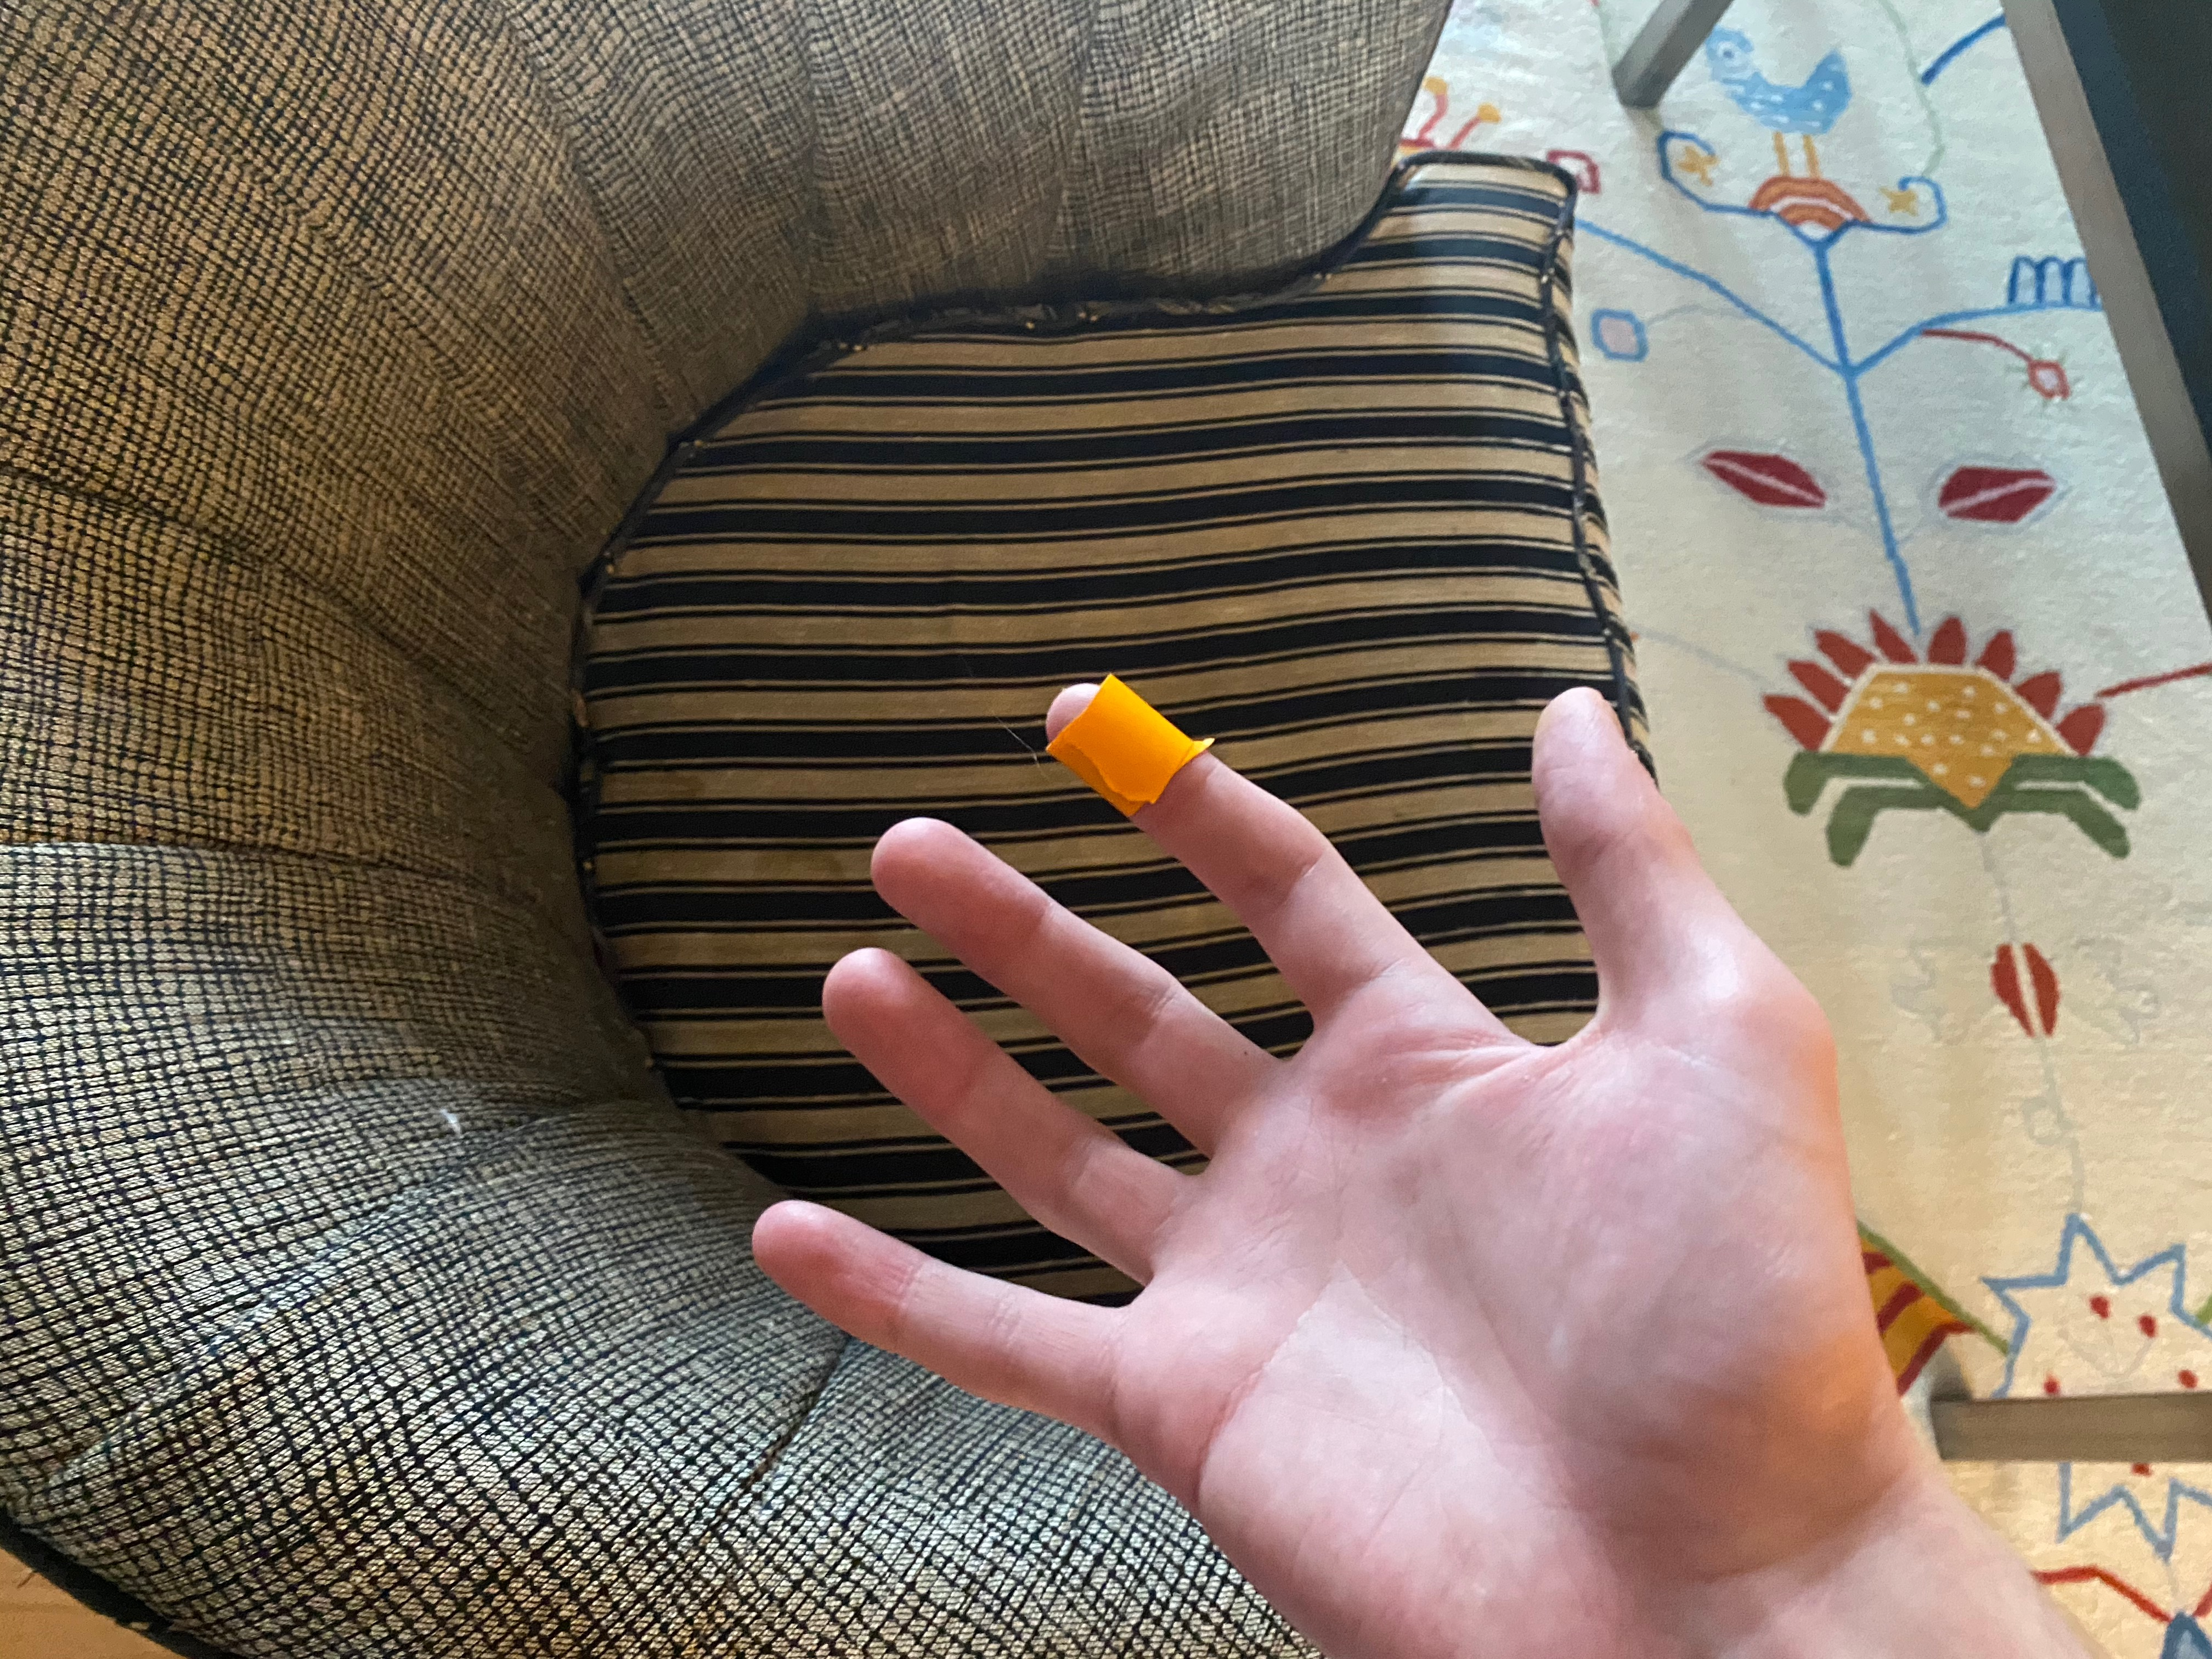fingertip: (1029, 666, 1240, 824)
